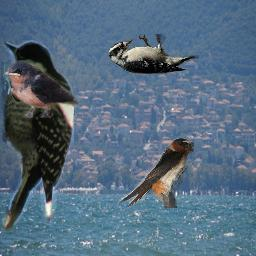Swallow: (118, 138, 194, 208), (3, 60, 79, 118)
Woodpecker: (1, 40, 76, 230), (109, 34, 199, 74)
